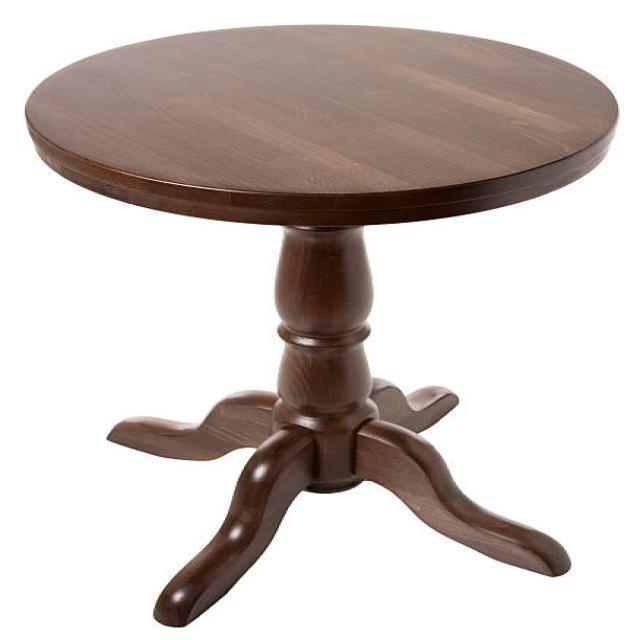table: (23, 21, 620, 626)
